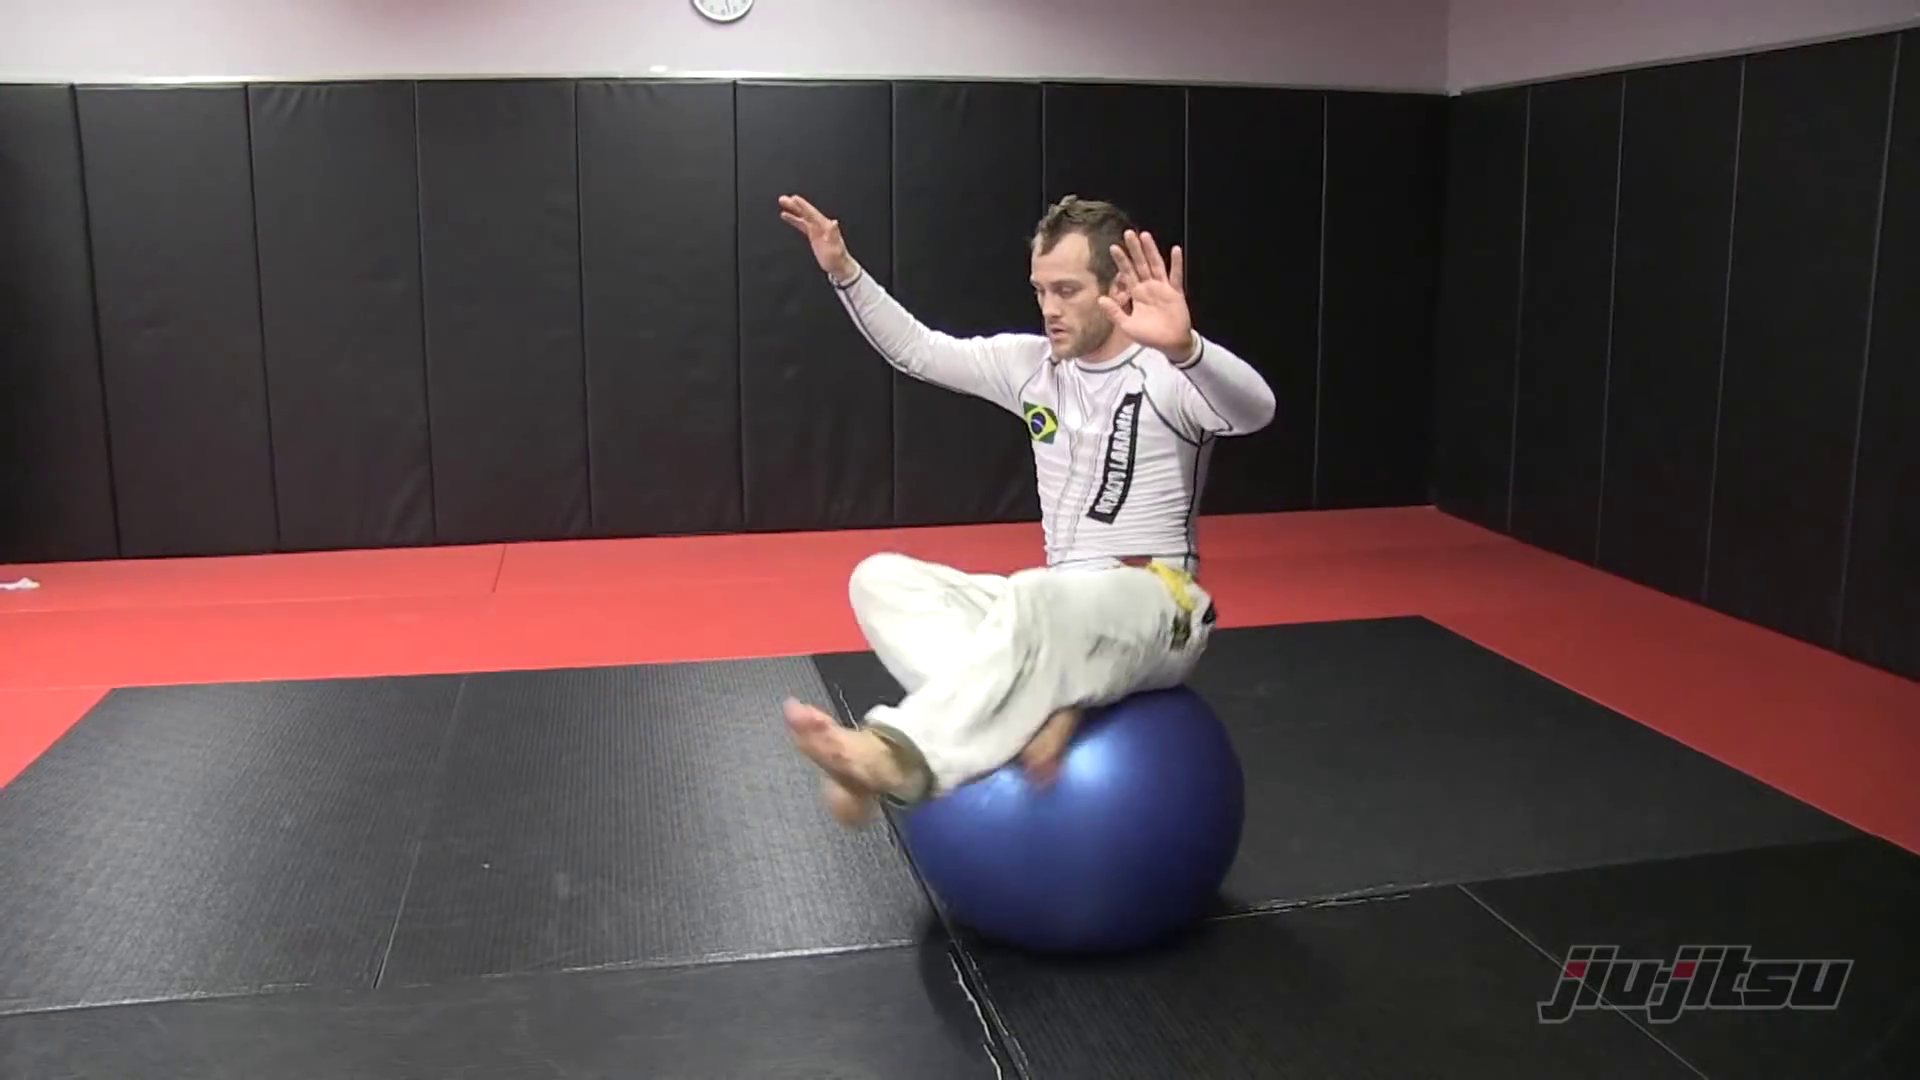yogaball: (887, 659, 1257, 963)
